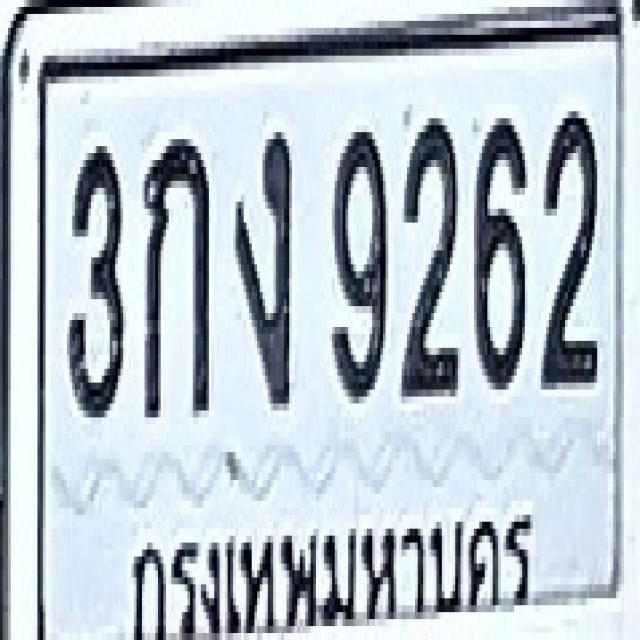2: (400, 111, 460, 396), (541, 108, 597, 386)
3: (67, 139, 123, 418)
6: (473, 111, 526, 390)
9: (331, 125, 387, 404)
A01: (142, 132, 209, 418)
A07: (233, 126, 292, 410)
BKK: (123, 507, 541, 640)
